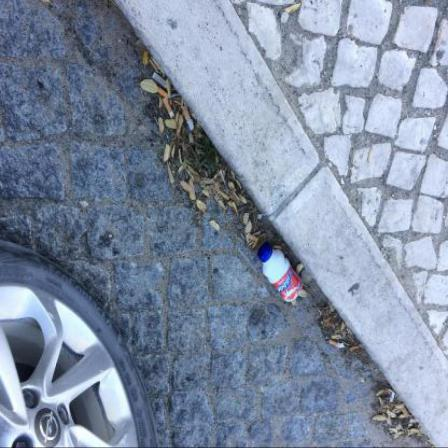Bottle: (258, 243, 304, 303)
Bottle cap: (258, 245, 272, 263)
Cigarette: (183, 106, 195, 132), (164, 99, 176, 121), (154, 73, 168, 90), (158, 87, 169, 101), (330, 341, 346, 350), (247, 233, 259, 243), (349, 346, 360, 352), (391, 394, 397, 404)
